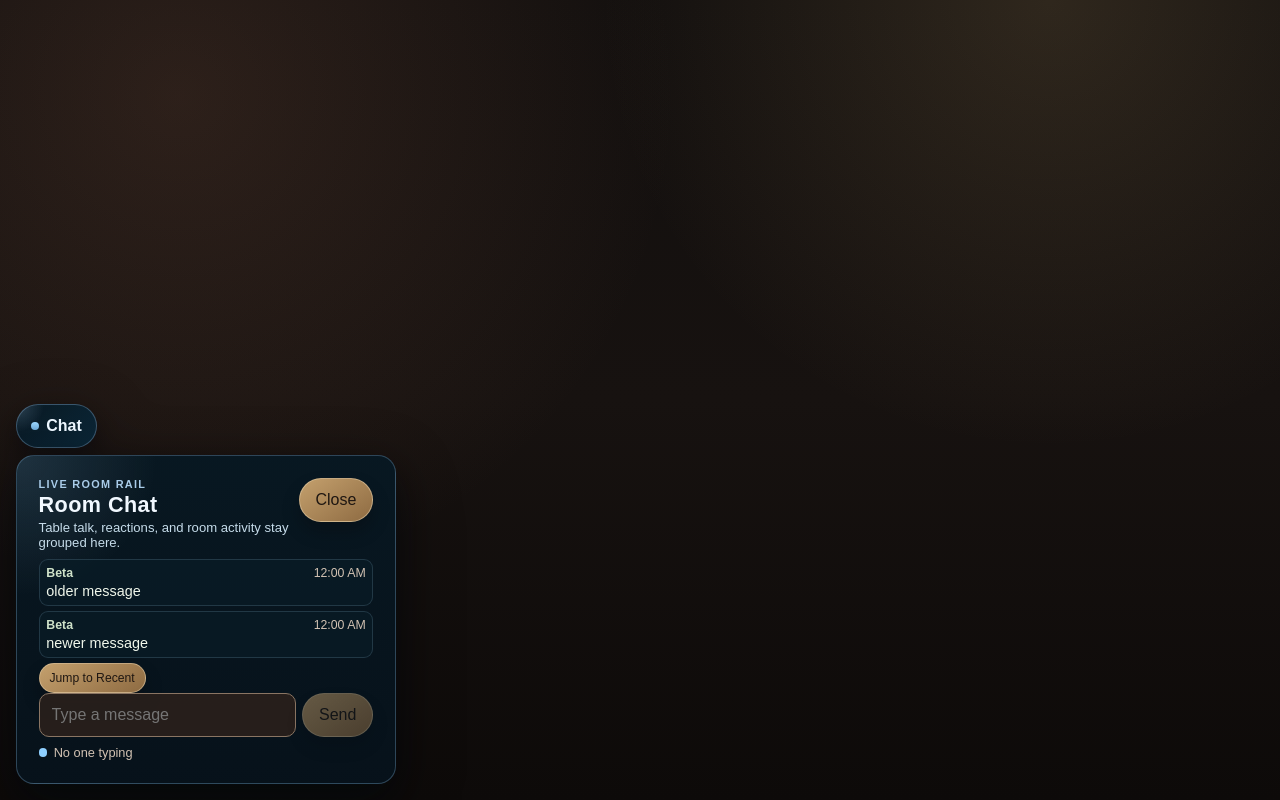
MultiplayerChatDock › shows jump-to-recent when reading history and hides after jumping back
The image size is (1280, 800).
(page scrolled)
Click the button "Jump to Recent" at (92, 678), box [39, 663, 146, 693]
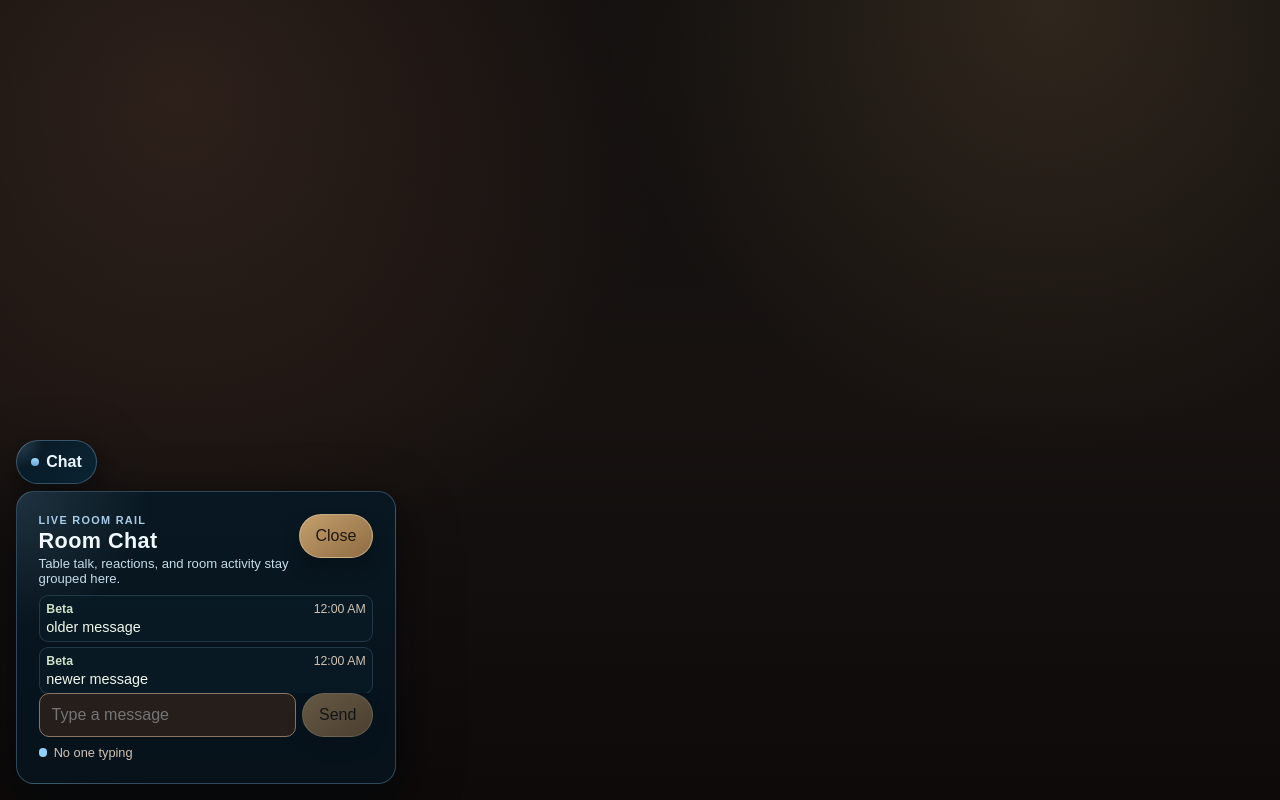
Expected: the button "Jump to Recent" is gone
